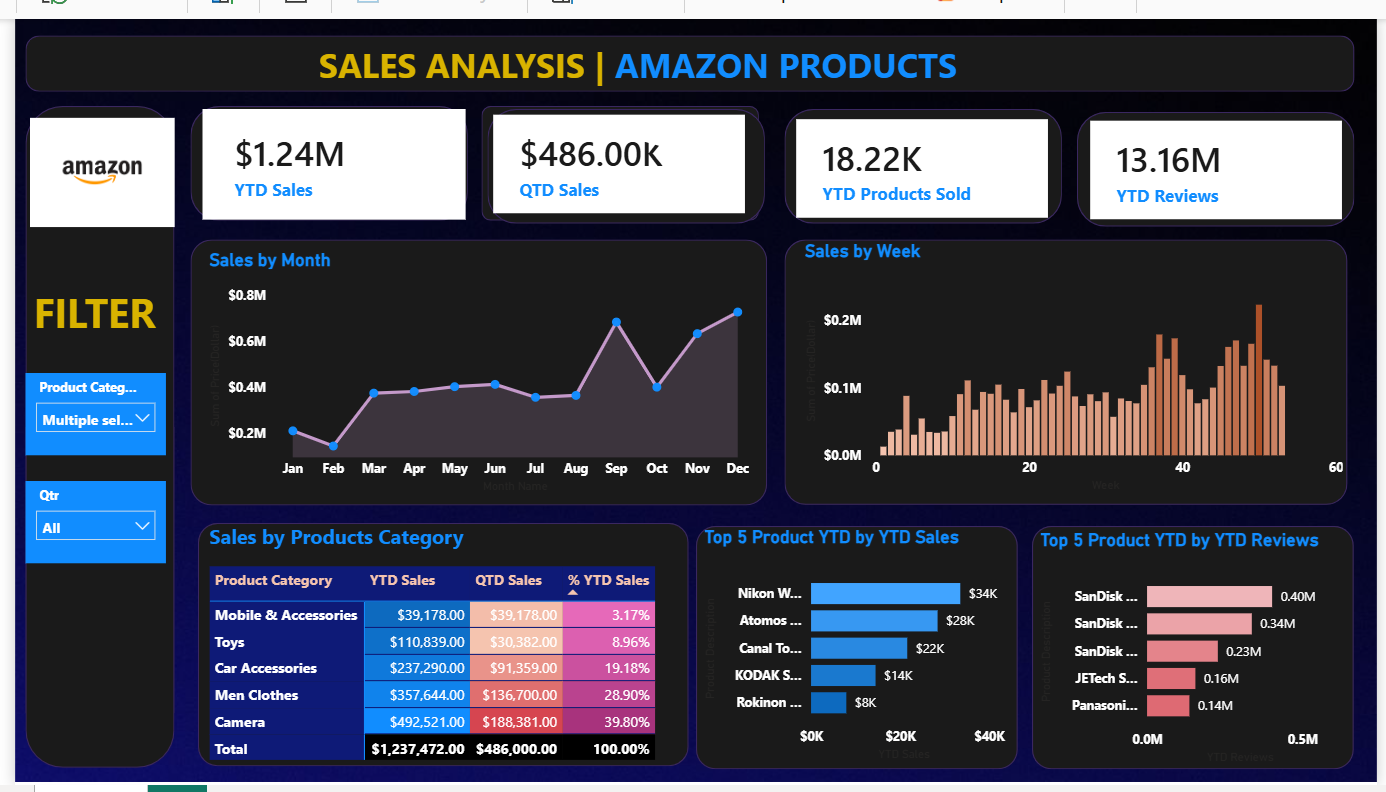

The dashboard page shown, as its layout file describes it:
{"tool":"powerbi","page":{"name":"Page 1","canvas":[1280,720],"ordinal":0},"visuals":[{"type":"shape","box":[172,474.3,461.1,228.7],"z":0},{"type":"shape","box":[9.4,15.1,1249.1,52.9],"z":1000},{"type":"shape","box":[9.4,81.3,140,622],"z":2000},{"type":"shape","box":[164.4,81.3,260.8,107.7],"z":3000},{"type":"cardVisual","fields":{"Data":["Amazon_Data.YTD Sales"]},"box":[176.7,85,247.6,103.9],"z":4000},{"type":"shape","box":[438.4,81.3,260.8,107.7],"z":5000},{"type":"shape","box":[444.1,85,260.8,107.7],"z":6000},{"type":"shape","box":[997.8,86.9,260.8,107.7],"z":7000},{"type":"shape","box":[723.8,85,260.8,107.7],"z":8000},{"type":"cardVisual","fields":{"Data":["Amazon_Data.QTD Sales"]},"box":[444.1,85,247.6,103.9],"z":9000},{"type":"cardVisual","fields":{"Data":["Amazon_Data.YTD Products Sold"]},"box":[729.5,88.8,247.6,103.9],"z":10000},{"type":"cardVisual","fields":{"Data":["Amazon_Data.YTD Reviews"]},"box":[1005.4,90.7,247.6,103.9],"z":11000},{"type":"shape","box":[164.4,207.9,542,250],"z":12000},{"type":"shape","box":[723.8,207.9,529.1,249.5],"z":13000},{"type":"lineChart","title":" Sales by Month ","fields":{"Category":["Date Table.Month Name"],"Y":["Sum(Amazon_Data.Price(Dollar))"]},"box":[177.6,215.4,521.6,234.3],"z":14000},{"type":"columnChart","title":"Sales by Week","fields":{"Y":["Sum(Amazon_Data.Price(Dollar))"],"Category":["Date Table.Week"]},"box":[737,207.9,515.9,241.9],"z":15000},{"type":"shape","box":[640.6,476.2,302.4,228.7],"z":16000},{"type":"pivotTable","title":"Sales by Products Category","fields":{"Rows":["Amazon_Data.Product Category"],"Values":["Amazon_Data.YTD Sales","Amazon_Data.QTD Sales","Divide(Amazon_Data.YTD Sales, ScopedEval(Amazon_Data.YTD Sales, []))"]},"box":[177.6,474.3,447.9,228.7],"z":17000},{"type":"shape","box":[956.2,476.2,302.4,228.7],"z":18000},{"type":"clusteredBarChart","title":" Top 5 Product YTD by YTD Sales","fields":{"Category":["Amazon_Data.Product Description"],"Y":["Amazon_Data.YTD Sales"]},"box":[642.4,476.7,300.1,225.1],"z":19000},{"type":"clusteredBarChart","title":" Top 5 Product YTD by YTD Reviews","fields":{"Category":["Amazon_Data.Product Description"],"Y":["Amazon_Data.YTD Reviews"]},"box":[958.1,479.8,300.1,225.1],"z":20000},{"type":"slicer","fields":{"Values":["Amazon_Data.Product Category"]},"box":[9.4,332.9,132.3,77.5],"z":21000},{"type":"slicer","fields":{"Values":["Date Table.Qtr"]},"box":[9.4,434.5,132.3,77.5],"z":22000},{"type":"image","box":[14.1,90.7,136,107.8],"z":23000},{"type":"textbox","box":[280,15,691.7,53.3],"z":24000},{"type":"textbox","box":[13.3,245,133.3,61.7],"z":25000}]}

Visuals, with their boxes on the page's 1280x720 design canvas (x1, y1, x2, y2). These are canvas units, not pixel positions in the 1386x792 screenshot, which may show the page scaled, cropped or inside an application window:
shape: bbox(172, 474, 633, 703)
shape: bbox(9, 15, 1258, 68)
shape: bbox(9, 81, 149, 703)
shape: bbox(164, 81, 425, 189)
cardVisual - Amazon_Data.YTD Sales: bbox(177, 85, 424, 189)
shape: bbox(438, 81, 699, 189)
shape: bbox(444, 85, 705, 193)
shape: bbox(998, 87, 1259, 195)
shape: bbox(724, 85, 985, 193)
cardVisual - Amazon_Data.QTD Sales: bbox(444, 85, 692, 189)
cardVisual - Amazon_Data.YTD Products Sold: bbox(730, 89, 977, 193)
cardVisual - Amazon_Data.YTD Reviews: bbox(1005, 91, 1253, 195)
shape: bbox(164, 208, 706, 458)
shape: bbox(724, 208, 1253, 457)
" Sales by Month " lineChart: bbox(178, 215, 699, 450)
"Sales by Week" columnChart: bbox(737, 208, 1253, 450)
shape: bbox(641, 476, 943, 705)
"Sales by Products Category" pivotTable: bbox(178, 474, 626, 703)
shape: bbox(956, 476, 1259, 705)
" Top 5 Product YTD by YTD Sales" clusteredBarChart: bbox(642, 477, 942, 702)
" Top 5 Product YTD by YTD Reviews" clusteredBarChart: bbox(958, 480, 1258, 705)
slicer - Amazon_Data.Product Category: bbox(9, 333, 142, 410)
slicer - Date Table.Qtr: bbox(9, 434, 142, 512)
image: bbox(14, 91, 150, 198)
textbox: bbox(280, 15, 972, 68)
textbox: bbox(13, 245, 147, 307)
